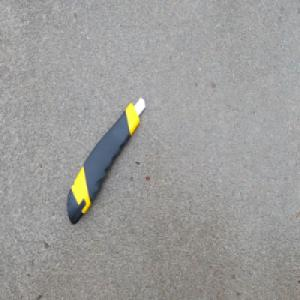Cutter: (66, 94, 146, 225)
